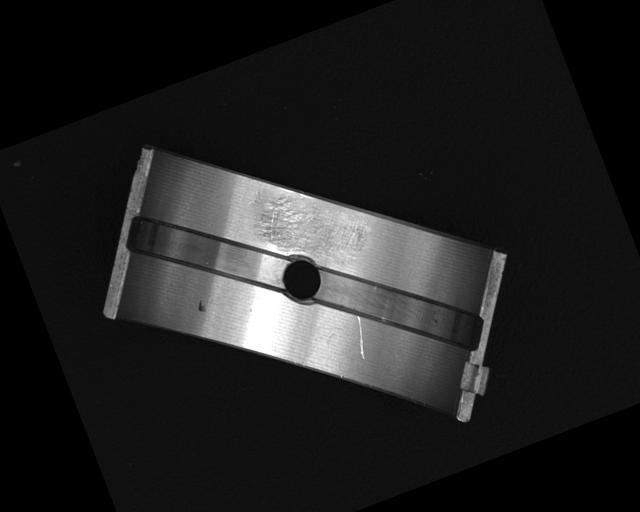bruise: (194, 298, 207, 314)
gap: (304, 229, 486, 390), (118, 176, 291, 330)
hole: (273, 252, 329, 308)
nick: (348, 315, 374, 360)
scratch: (249, 170, 377, 290)
